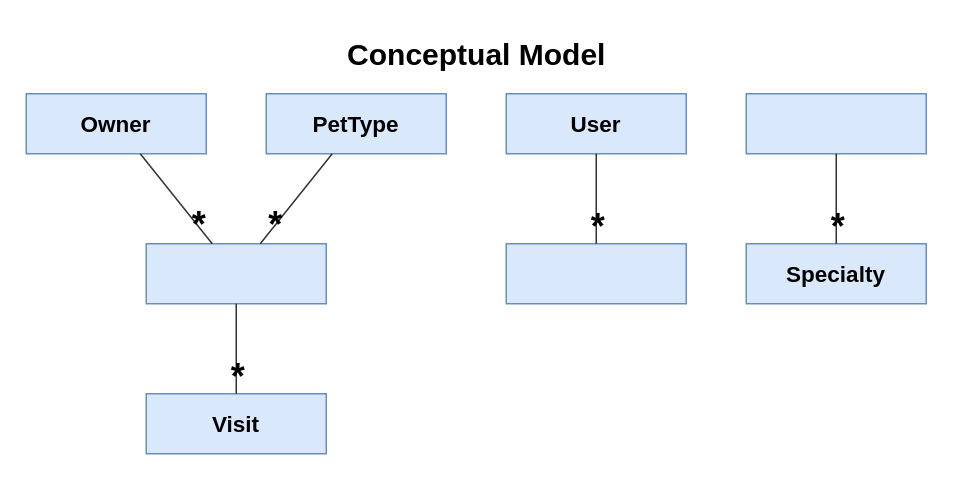
Some shapes in this 953 by 480 pixel diagram are drawn without their labels. The centre of each missing label's shape, as x and y in pixels:
Pet: (x=235, y=273)
Role: (x=595, y=273)
Vet: (x=835, y=123)
